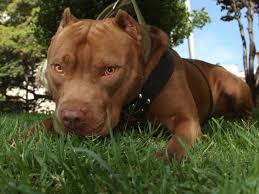Perro Pitbull: (46, 7, 151, 141)
